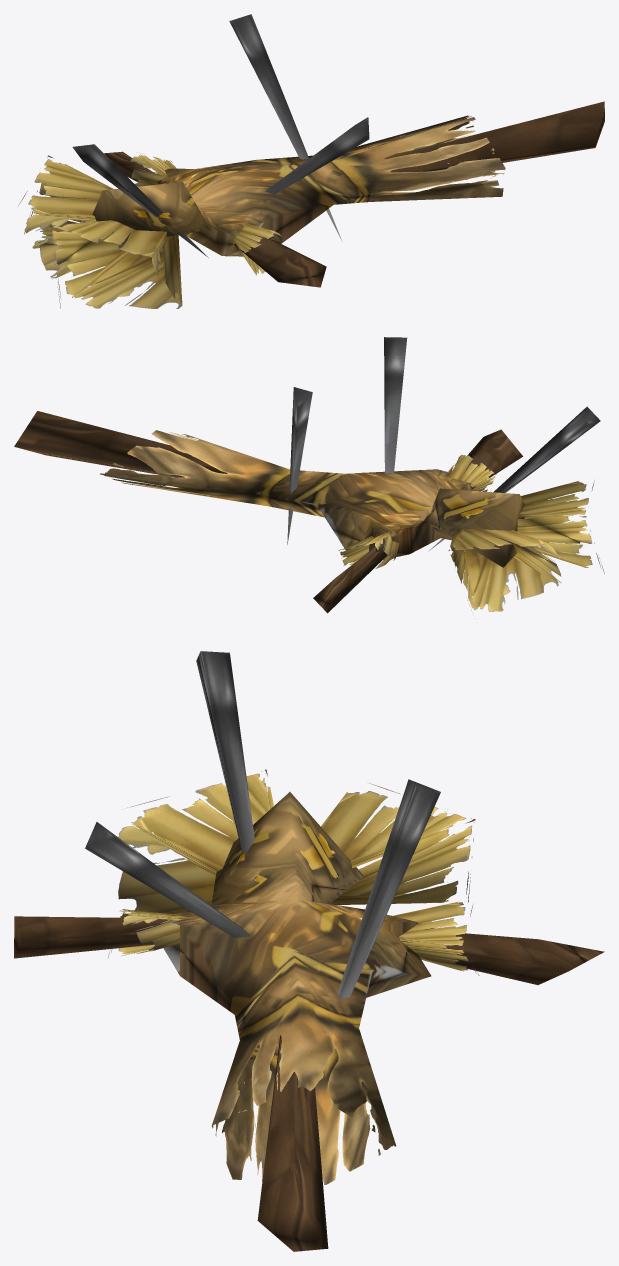
Rendered from voodoodoll02.obj.
3 views of the same model, one above another, from view 1: azimuth 30°, elevation 25°; view 2: azimuth 150°, elevation 25°; view 3: azimuth 270°, elevation 25° (orthographic). The views are drawn at different scales.
Visible parts, largest first — view 1: voodoodoll02; view 2: voodoodoll02; view 3: voodoodoll02.
Part boxes in pixels (x1,y1,x2,y2): voodoodoll02: [18, 14, 604, 308]; voodoodoll02: [14, 337, 604, 613]; voodoodoll02: [14, 651, 604, 1251].
Size of the model in its own units: 1.13 by 0.3901 by 0.6932.
Materials: 1 (1 with a texture image).
